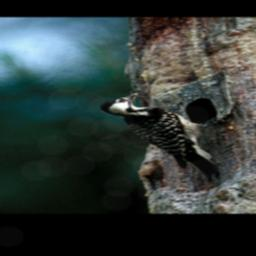Woodpecker: (97, 91, 219, 183)
